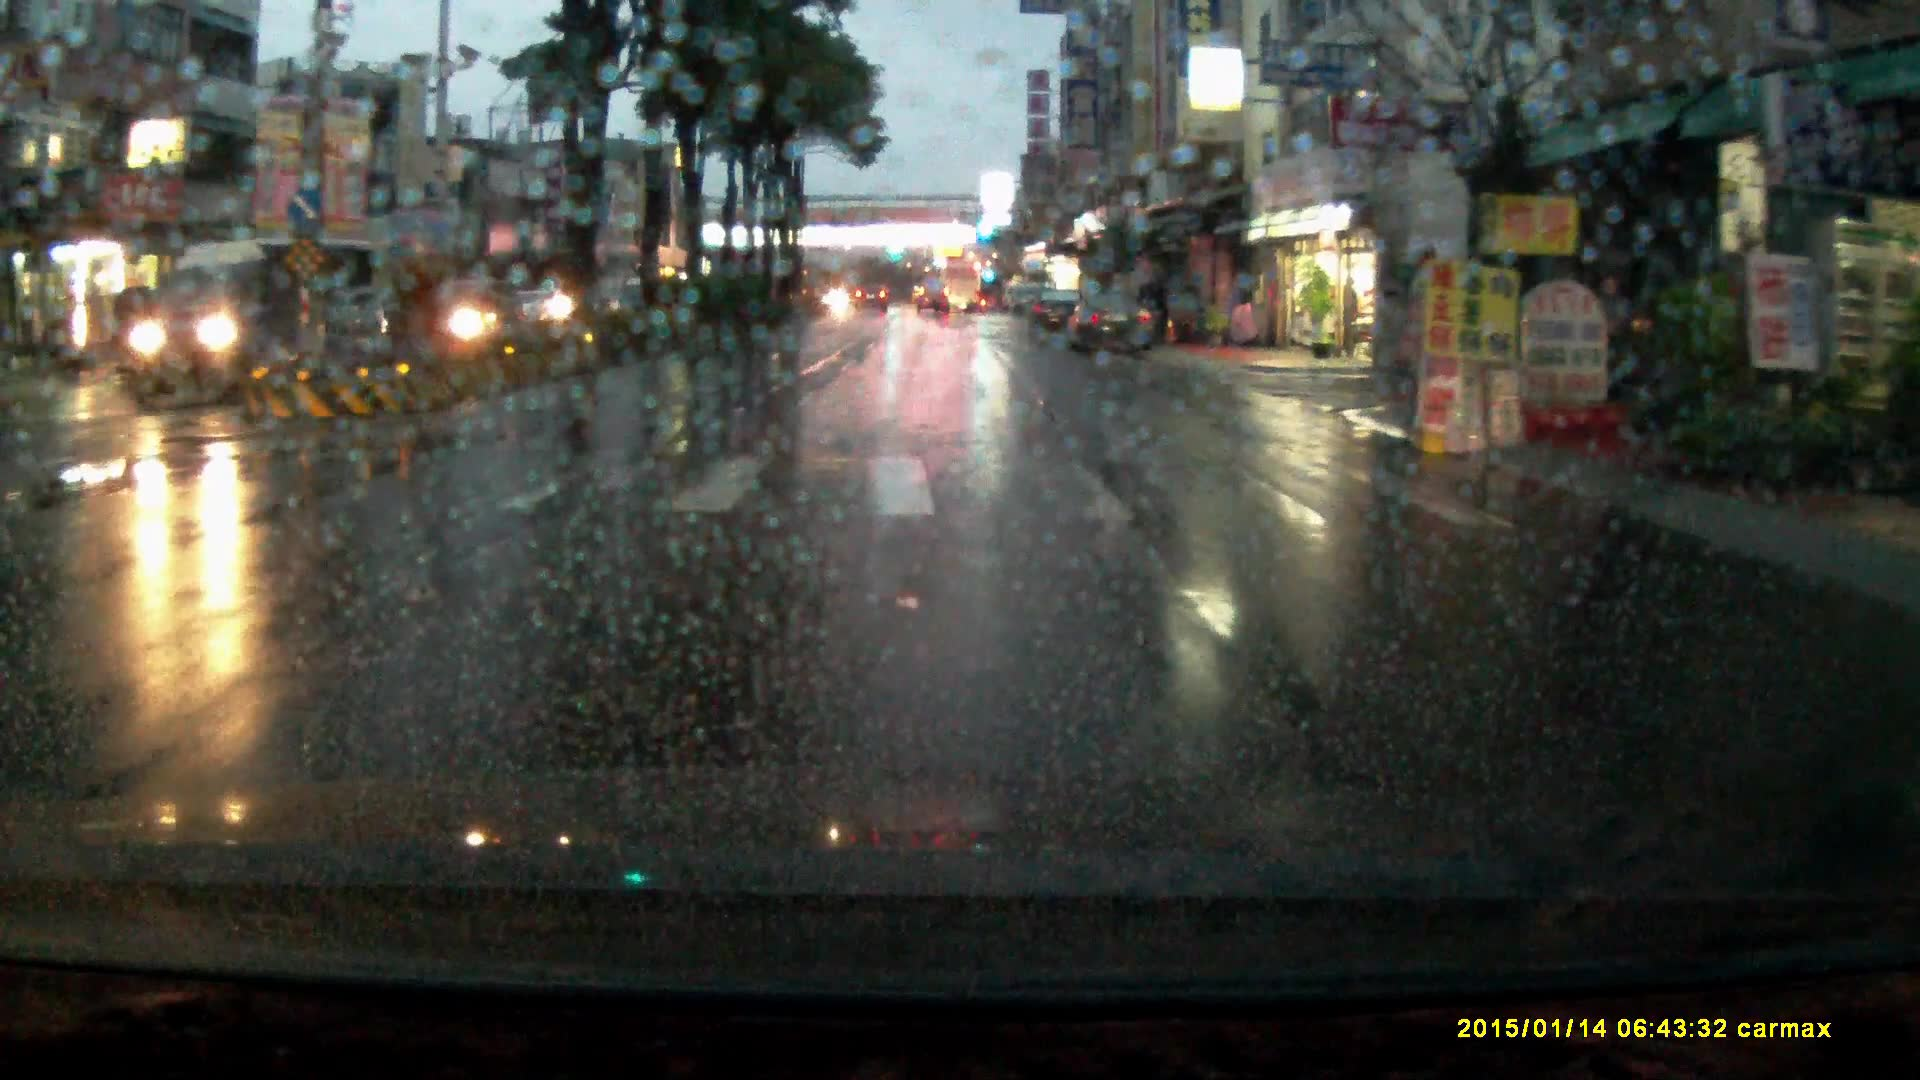vehicle: (123, 232, 384, 413), (392, 277, 527, 353), (1064, 287, 1158, 357), (1026, 286, 1083, 338), (936, 262, 982, 320), (918, 278, 953, 318), (853, 284, 890, 315)
